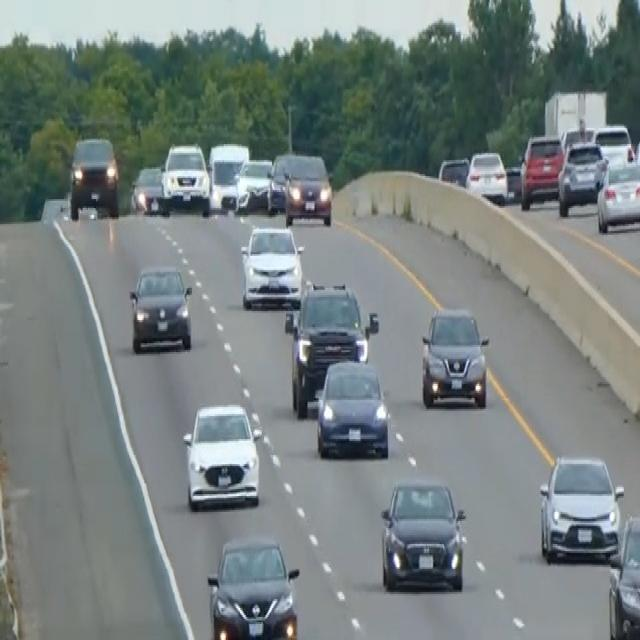car: (379, 476, 467, 592), (206, 534, 300, 638), (538, 452, 624, 564), (181, 400, 261, 510), (312, 356, 390, 458), (128, 263, 193, 354), (239, 222, 304, 310), (607, 512, 639, 638), (557, 137, 608, 215), (283, 151, 333, 226), (161, 140, 210, 213), (596, 153, 639, 233), (519, 132, 564, 208), (207, 140, 248, 213), (465, 148, 508, 205), (234, 156, 273, 214), (130, 164, 169, 215), (266, 151, 294, 213), (593, 121, 633, 163), (560, 121, 595, 151), (438, 154, 469, 187)
jeep: (283, 277, 378, 416), (419, 304, 490, 409), (68, 134, 121, 220)
